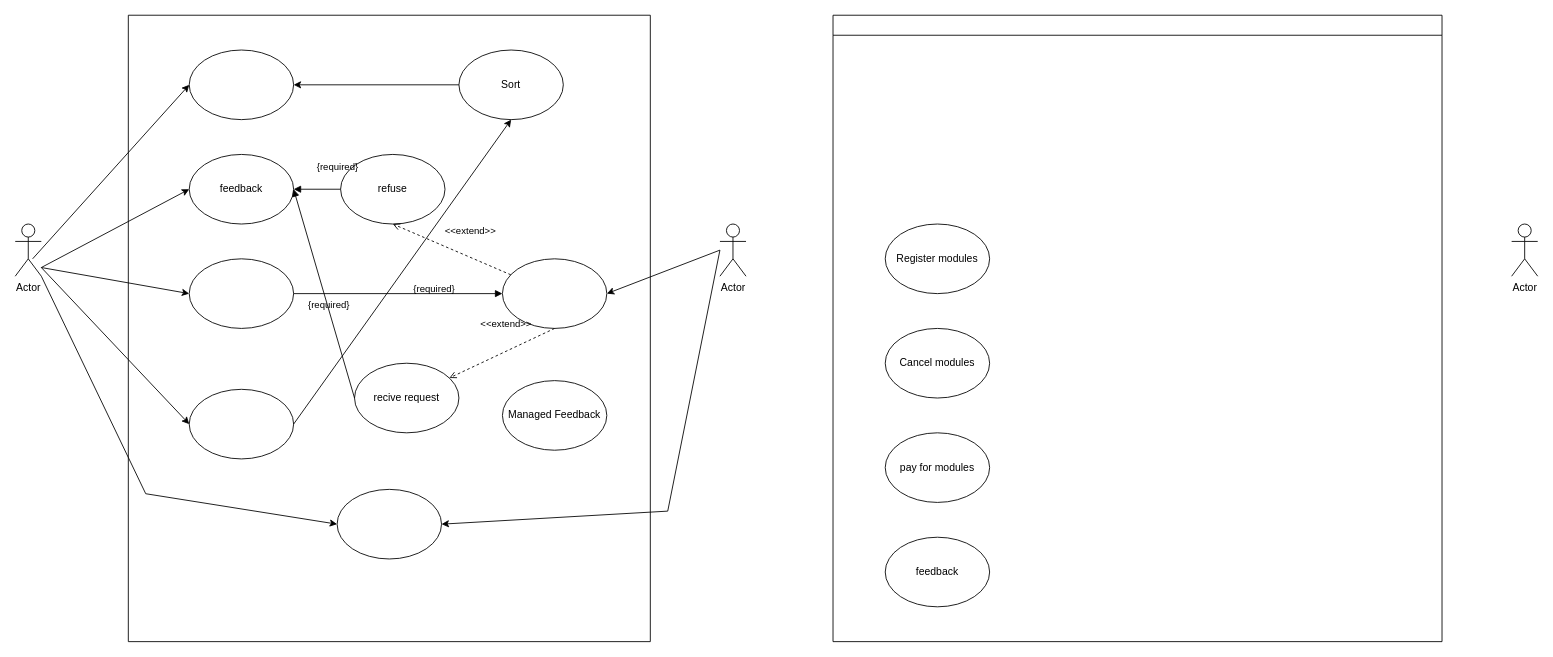
The diagram is 1553 pixels wide and 657 high, and some of its shapes have lost their labels. The shapes that lost their labels are listed below. From the top down, each one's box as (x1, y1, x2, y2) in pixels, then its label:
(188, 49, 294, 120): Search
(188, 258, 294, 328): Booking
(502, 258, 607, 328): Managed Booking
(832, 14, 1442, 642): Admin
(188, 388, 294, 459): Rating
(336, 489, 442, 559): Chat
